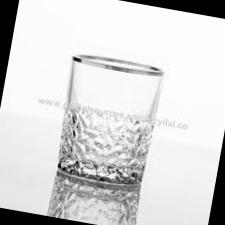glass: (33, 35, 178, 204)
